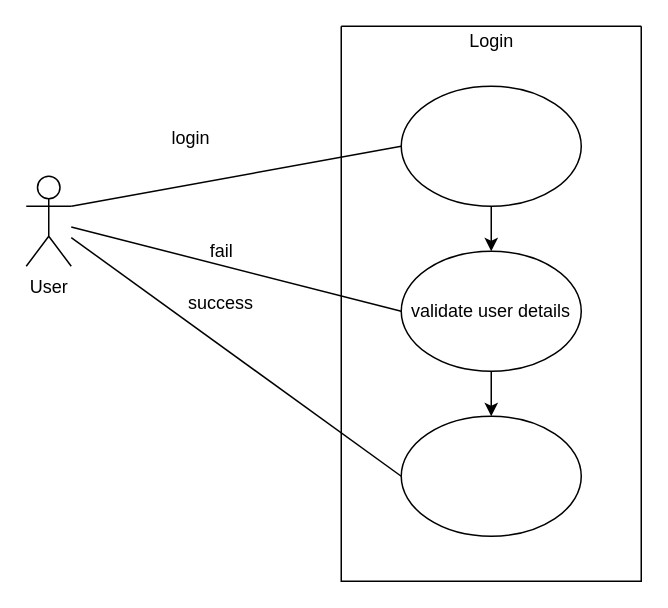
The diagram is 668 pixels wide and 608 high, and some of its shapes have lost their labels. The shapes that lost their labels are listed below. From the top down, each one's centre as x and y in pixels, then its label:
the point at 490,145: login to application with credentials
the point at 490,475: home page
